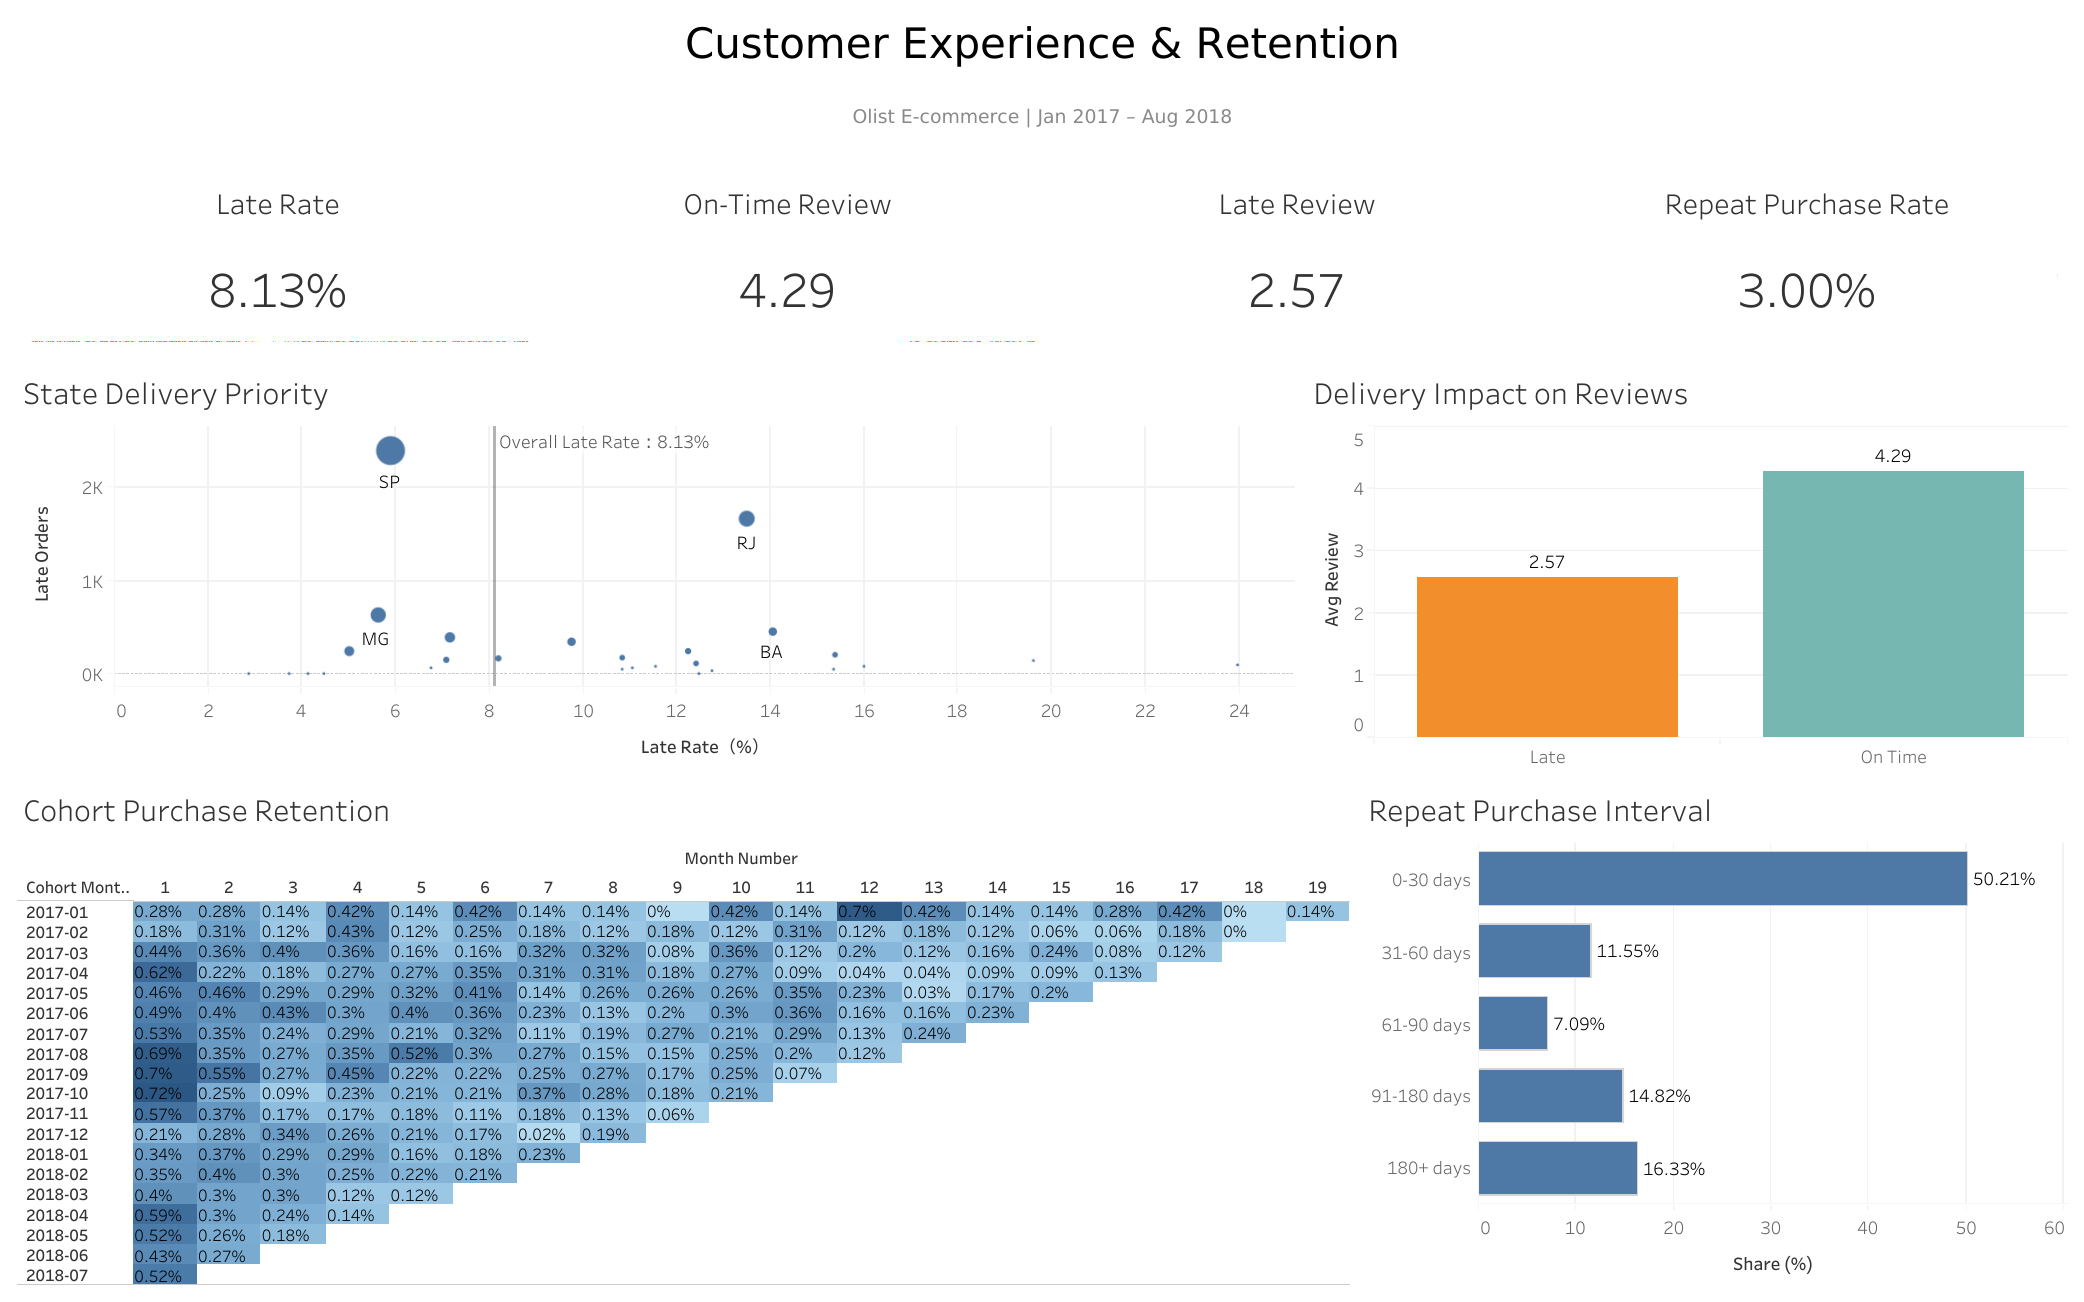

This screenshot's page, from the dashboard's own definition file:
{"tool":"tableau","page":{"name":"Dashboard 2：Customer Experience & Retention","canvas":[1440,900],"ordinal":1},"visuals":[{"type":"text","box":[8,8,1424,44]},{"type":"text","box":[8,52,1424,57]},{"type":"worksheet","title":"Late Rate","mark":"Automatic","box":[16,117,352,122]},{"type":"worksheet","title":"On-Time Review","mark":"Automatic","box":[368,117,352,122]},{"type":"worksheet","title":"Late Review","mark":"Automatic","box":[720,117,352,122]},{"type":"worksheet","title":"Repeat Purchase Rate","mark":"Automatic","box":[1072,117,352,122]},{"type":"worksheet","title":"State Delivery Priority","mark":"Circle","rows":["late_orders"],"cols":["late_rate_pct"],"box":[8,247,891,288]},{"type":"worksheet","title":"Delivery Impact on Reviews","mark":"Automatic","rows":["avg_review"],"cols":["delivery_status"],"box":[899,247,533,288]},{"type":"worksheet","title":"Cohort Purchase Retention","mark":"Square","rows":["cohort_month"],"cols":["month_number"],"box":[8,535,929,357]},{"type":"worksheet","title":"Repeat Purchase Interval","mark":"Automatic","rows":["Calculation_1945629744218115"],"cols":["share_pct"],"box":[937,535,495,357]}]}

Visuals, with their boxes in screenshot pixels (x1, y1, x2, y2), scaled from the page's 1440x900 canvas onto the 2084x1302 screenshot:
text: (x1=12, y1=12, x2=2072, y2=75)
text: (x1=12, y1=75, x2=2072, y2=158)
"Late Rate" worksheet: (x1=23, y1=169, x2=533, y2=346)
"On-Time Review" worksheet: (x1=533, y1=169, x2=1042, y2=346)
"Late Review" worksheet: (x1=1042, y1=169, x2=1551, y2=346)
"Repeat Purchase Rate" worksheet: (x1=1551, y1=169, x2=2061, y2=346)
"State Delivery Priority" worksheet (Circle marks): (x1=12, y1=357, x2=1301, y2=774)
"Delivery Impact on Reviews" worksheet: (x1=1301, y1=357, x2=2072, y2=774)
"Cohort Purchase Retention" worksheet (Square marks): (x1=12, y1=774, x2=1356, y2=1290)
"Repeat Purchase Interval" worksheet: (x1=1356, y1=774, x2=2072, y2=1290)
